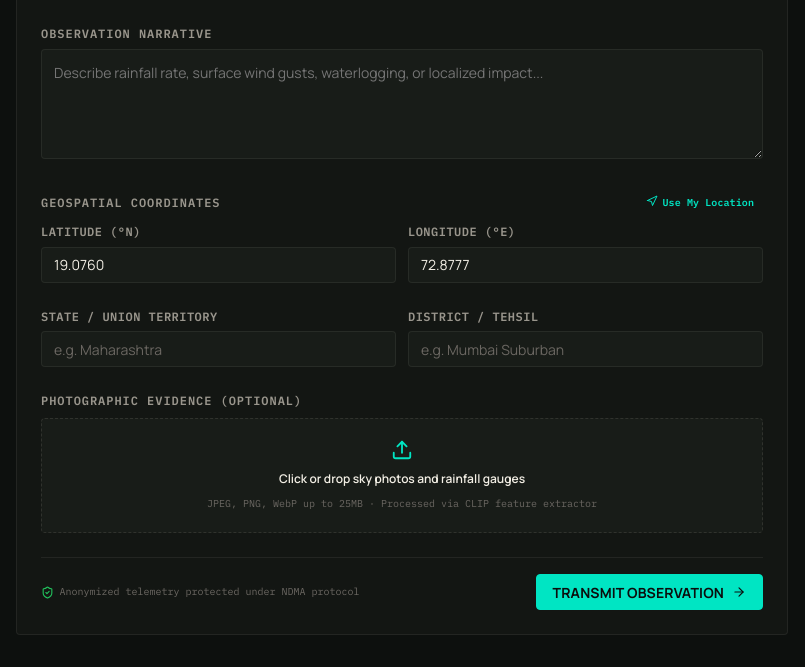
Test: Workflows Component Suite › Citizen Report Submission Workflow (SubmitReport) › renders form inputs and handles missing description validation
(page scrolled)
Click the button "TRANSMIT OBSERVATION" at (649, 592), box [536,574,763,610]
(page scrolled)
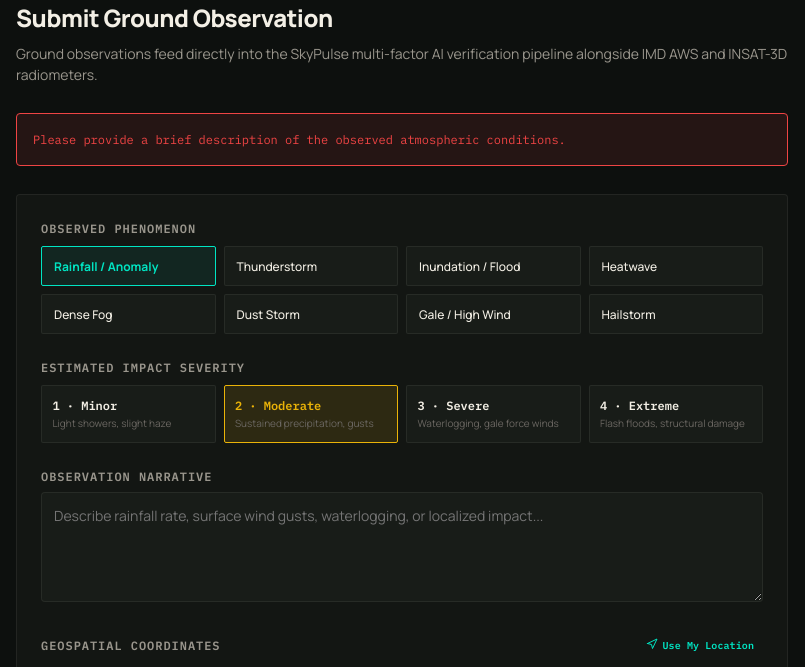
Now the text "Please provide a brief description" is shown, box [33,132,566,147]
